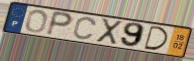9: (120, 22, 148, 49)
C: (71, 16, 98, 41)
D: (143, 25, 170, 52)
O: (24, 9, 49, 34)
P: (44, 10, 75, 38)
X: (95, 18, 124, 46)
